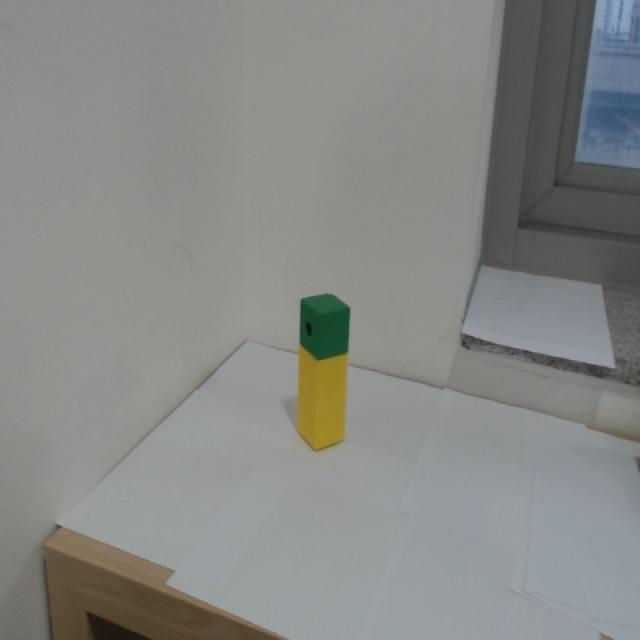cube: (296, 287, 358, 366)
